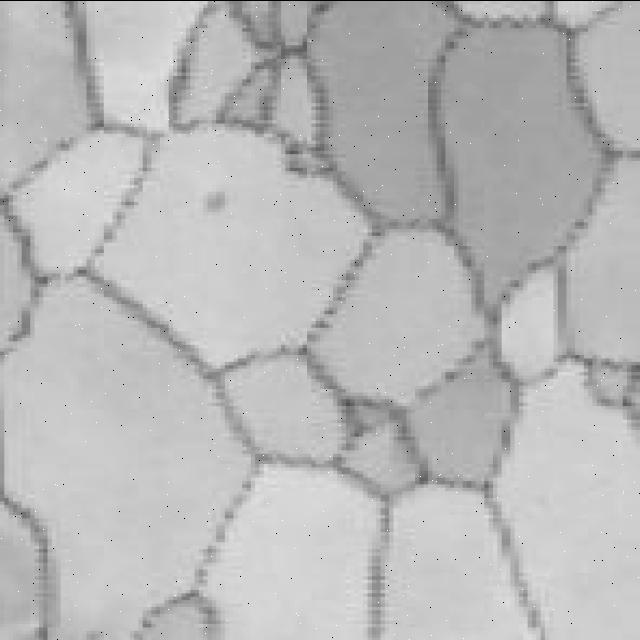good_void: (200, 192, 228, 216)
